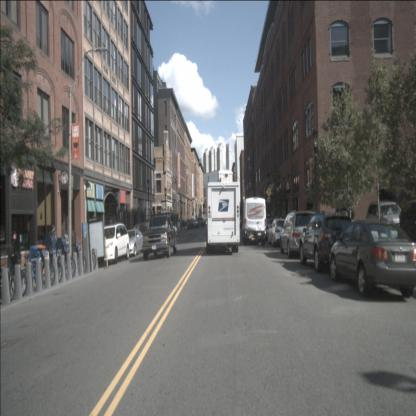human-pedestrian-adult: (49, 224, 57, 278), (182, 218, 184, 228), (179, 218, 180, 228)
vehicle-car: (329, 217, 415, 299), (299, 213, 353, 273), (280, 210, 316, 258), (366, 201, 405, 239), (94, 223, 130, 264), (242, 198, 266, 246), (132, 221, 154, 251), (268, 218, 290, 247), (121, 229, 144, 256), (262, 218, 277, 241), (187, 219, 196, 229), (196, 217, 204, 228), (191, 220, 197, 227), (204, 218, 209, 226)
vehicle-truck: (206, 181, 240, 254), (142, 214, 177, 260)
